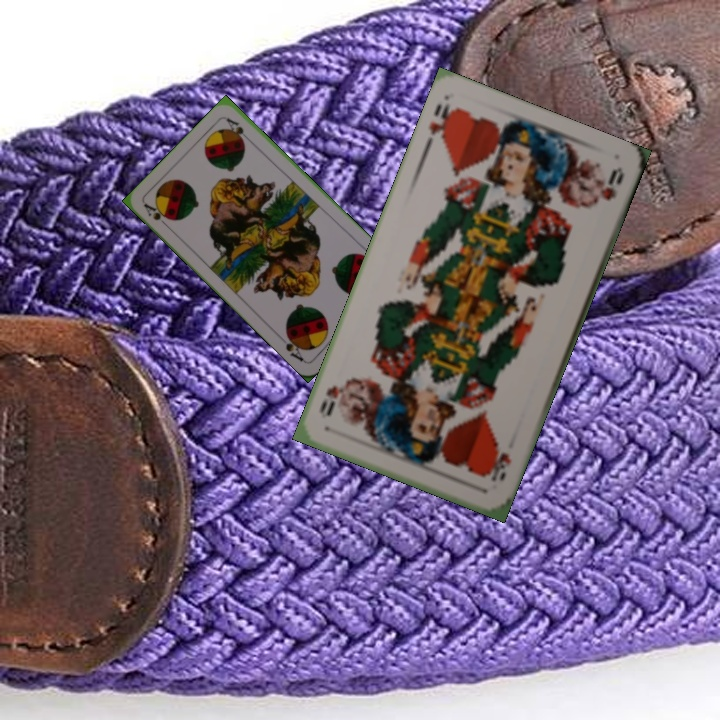HO: (420, 99, 460, 153), (485, 448, 514, 484)
SA: (139, 199, 174, 231)
